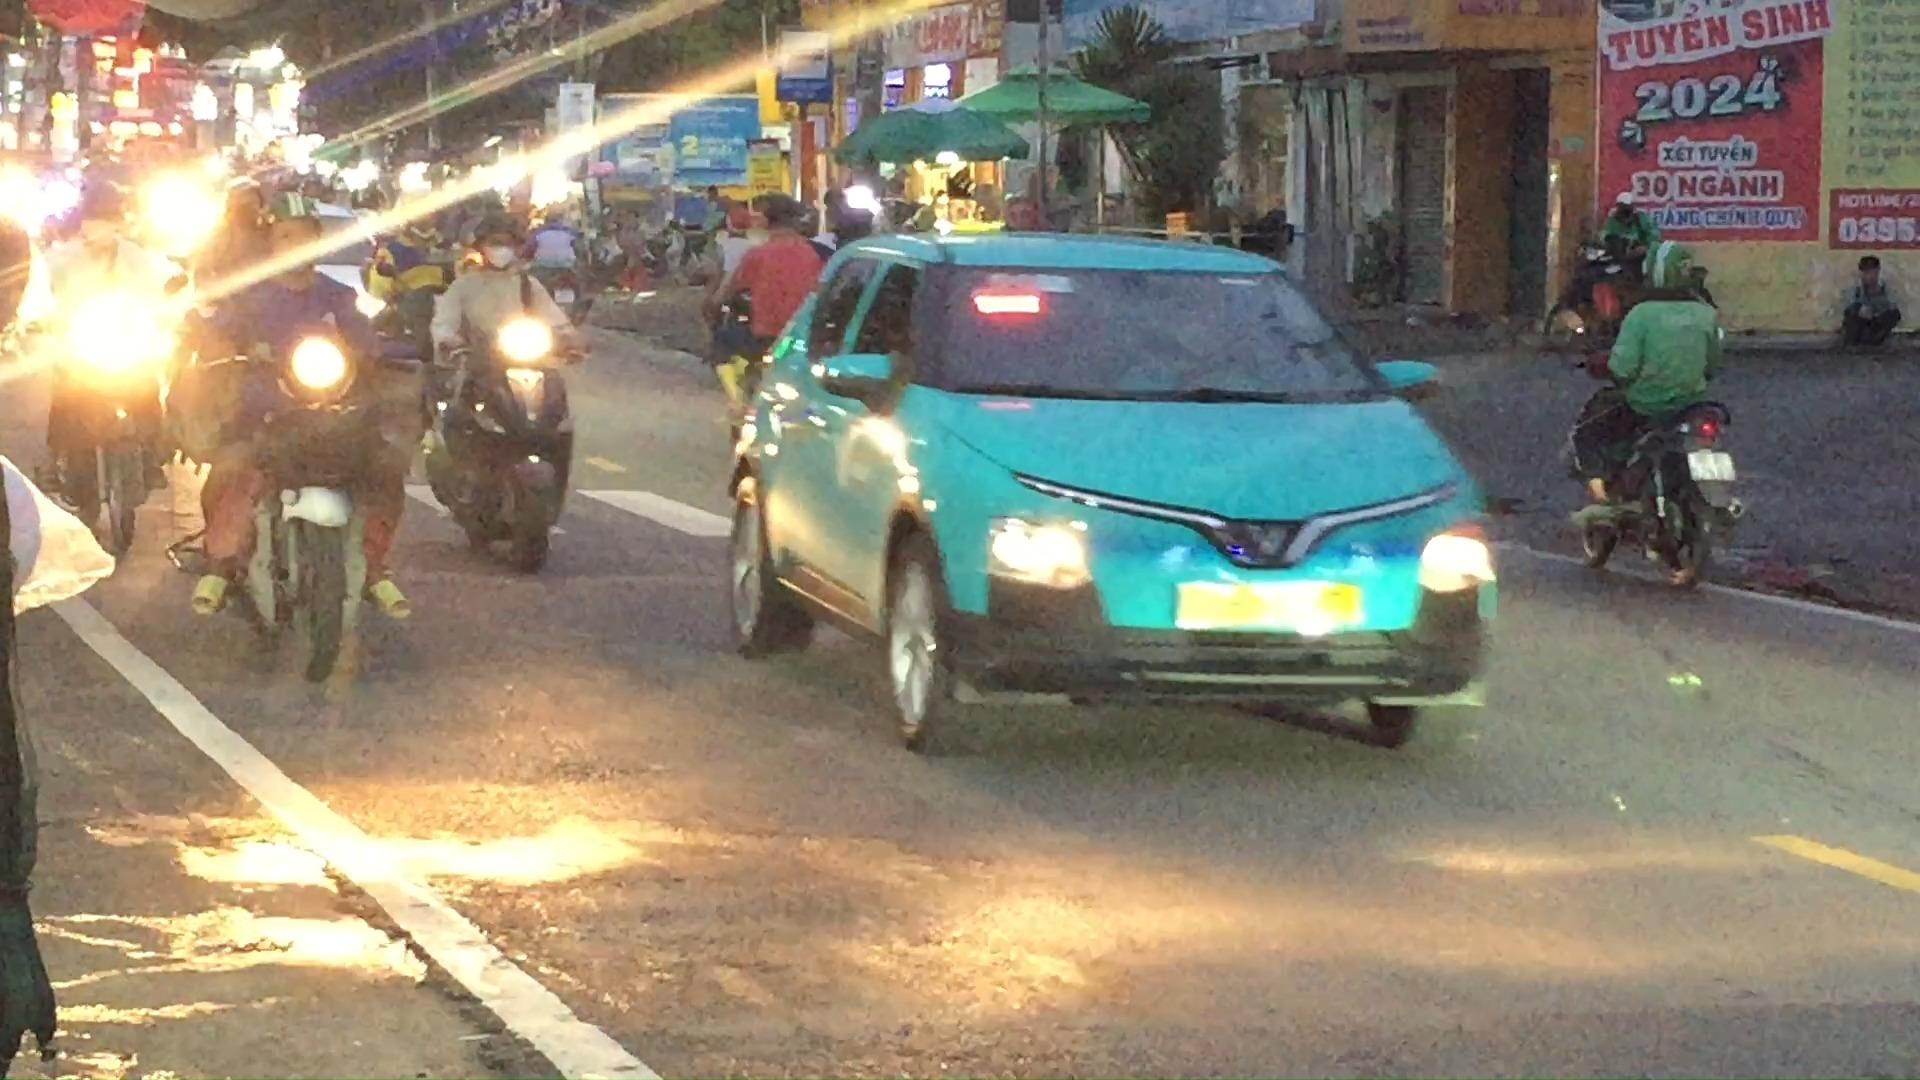bien_so: (1171, 578, 1364, 638)
